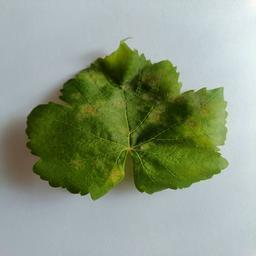Powdery-Mildew: (80, 87, 130, 119), (106, 125, 132, 179), (190, 107, 221, 145), (152, 64, 180, 101), (86, 71, 103, 88), (113, 47, 130, 63)
